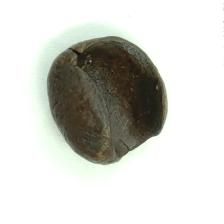NG: (72, 41, 163, 161)
